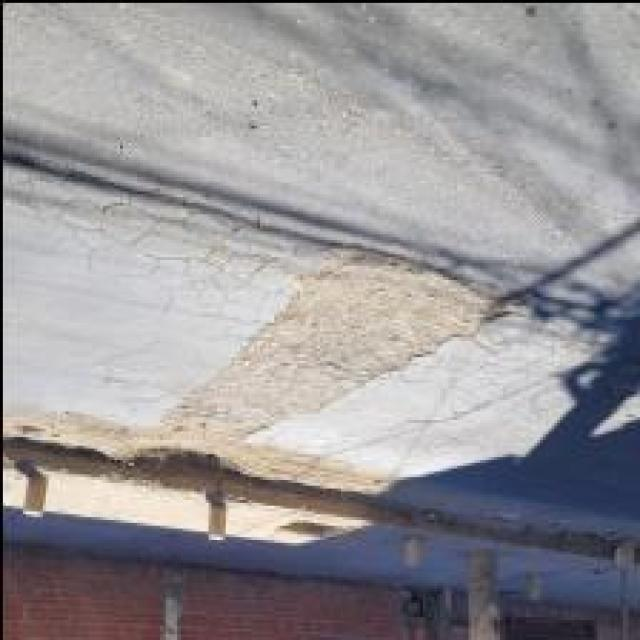BACHE: (170, 253, 487, 433)
PIEL DE COCODRILO: (2, 139, 294, 328)
